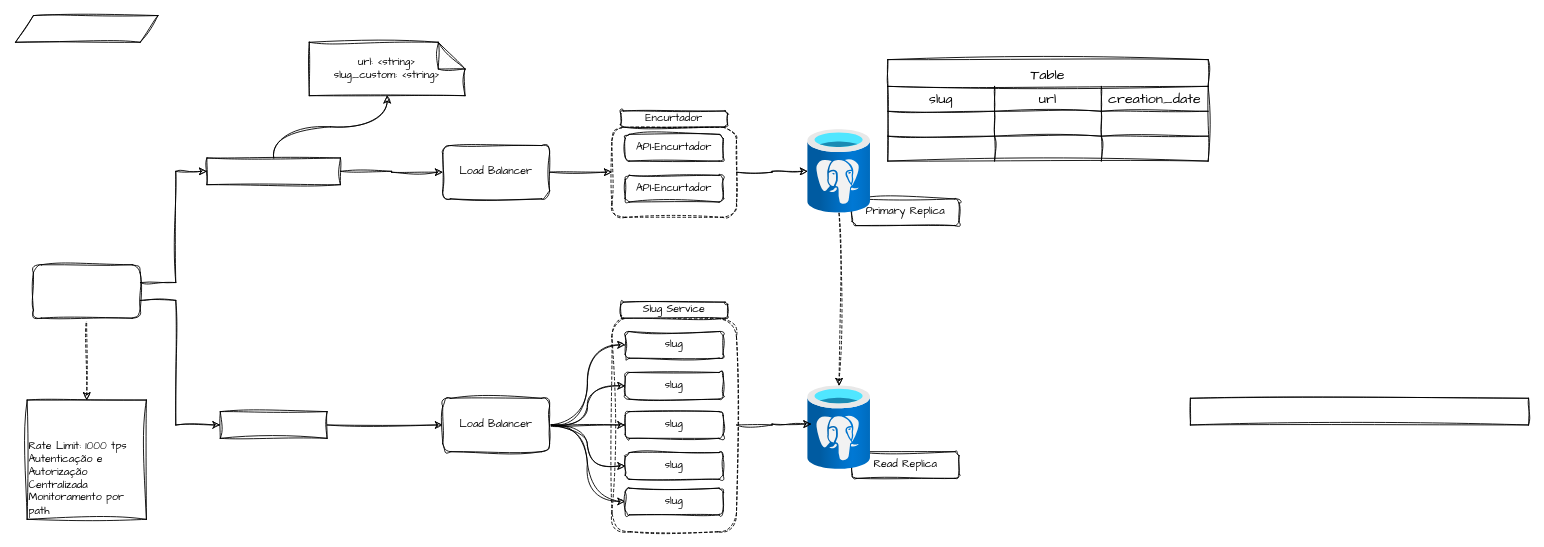
The diagram is 1544 pixels wide and 547 high, and some of its shapes have lost their labels. Here are the shapes that lost their labels. From the top down, the centre of each, then its label:
pixel 86 28: 1.000 TPS
pixel 273 171: [POST] /api/links
pixel 86 291: API Gateway
pixel 273 424: [GET] /{slug}
pixel 1359 411: [GET] /{slug}/stats?from=YYYY-MM-DD&to=YYYY-MM-DD
